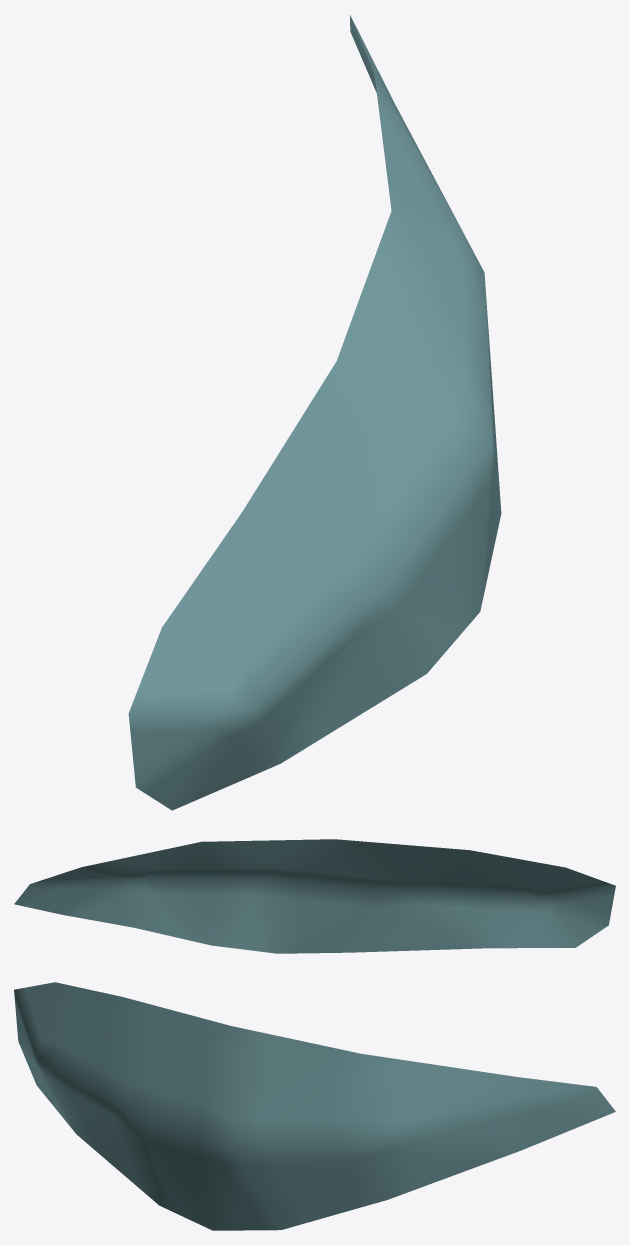
The model's file is SUV_2_Window_Light_L_Tessellate.fbx.
3 views of the same model, one above another, from view 1: azimuth 30°, elevation 25°; view 2: azimuth 150°, elevation 25°; view 3: azimuth 270°, elevation 25° (orthographic). The views are drawn at different scales.
Visible parts, largest first — view 1: SUV_2_Window_Light_L_Tessellate; view 2: SUV_2_Window_Light_L_Tessellate; view 3: SUV_2_Window_Light_L_Tessellate.
Part boxes in pixels (left/top/right/bottom): SUV_2_Window_Light_L_Tessellate: left=128, top=15, right=501, bottom=810; SUV_2_Window_Light_L_Tessellate: left=14, top=839, right=615, bottom=953; SUV_2_Window_Light_L_Tessellate: left=14, top=982, right=615, bottom=1230.
Bounding box in the file's own units: 39.32 × 17.4 × 46.92.
